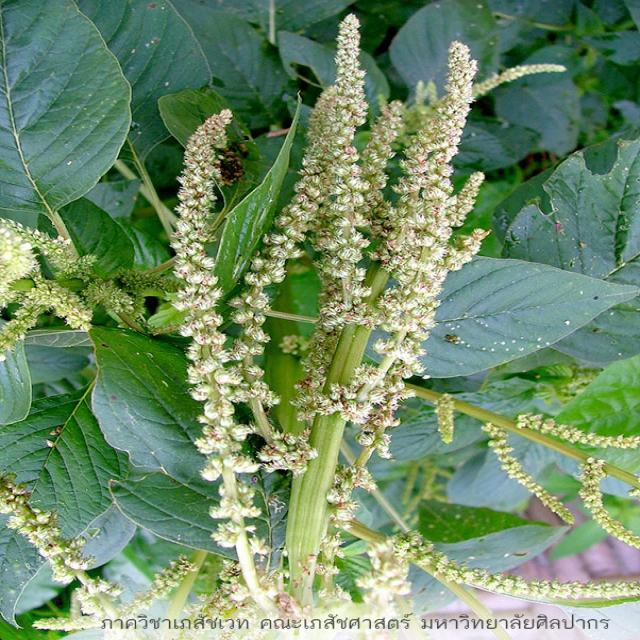Medicinal-Arive Dantu: (78, 21, 490, 596)
